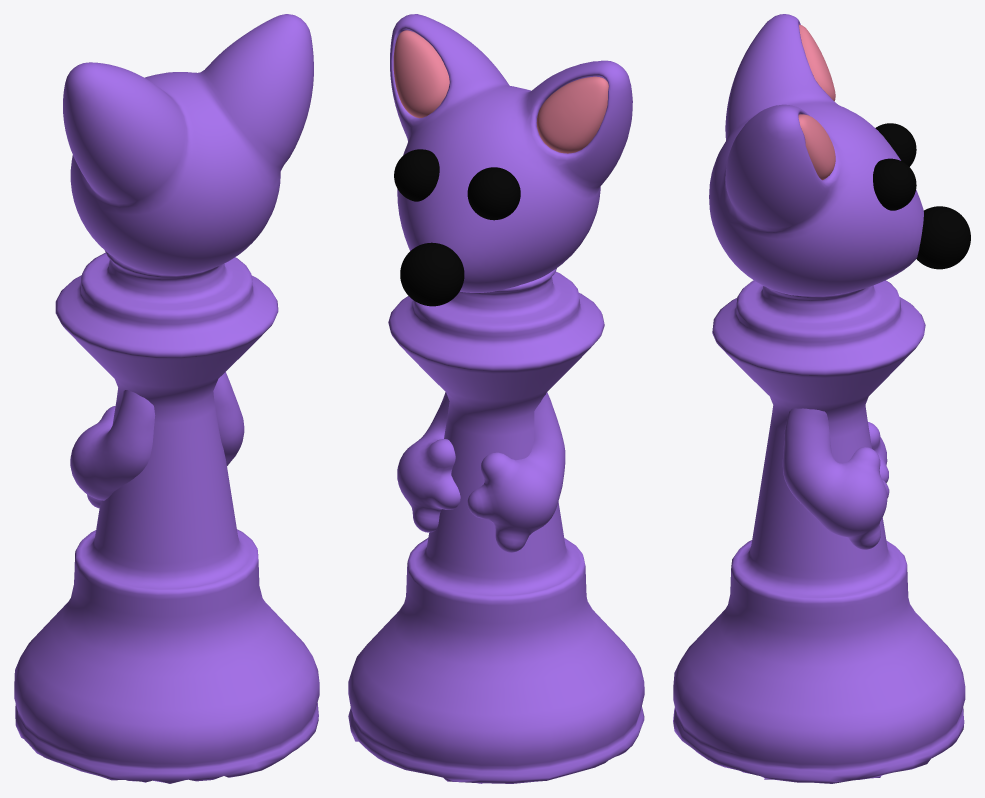
File: w-king.glb
3 views of the same model, side by side, from view 1: azimuth 30°, elevation 25°; view 2: azimuth 150°, elevation 25°; view 3: azimuth 270°, elevation 25° (orthographic). The views are drawn at different scales.
Visible parts, largest first — view 1: Retopo_geom.023, PhettaKing, Retopo_geom.024; view 2: Retopo_geom.023, PhettaKing, Retopo_geom.024, Retopo_geom.022, Retopo_geom.021, Retopo_geom.020; view 3: Retopo_geom.023, PhettaKing, Retopo_geom.024, Retopo_geom.021, Retopo_geom.020, Retopo_geom.022.
Boxes of the visible parts, bbox=[...] form: Retopo_geom.023: bbox=[14, 250, 319, 783]; PhettaKing: bbox=[63, 14, 313, 274]; Retopo_geom.024: bbox=[70, 372, 244, 508]; Retopo_geom.023: bbox=[348, 268, 644, 783]; PhettaKing: bbox=[390, 14, 632, 292]; Retopo_geom.024: bbox=[397, 392, 565, 552]; Retopo_geom.022: bbox=[393, 30, 608, 153]; Retopo_geom.021: bbox=[394, 149, 520, 220]; Retopo_geom.020: bbox=[400, 242, 464, 306]; Retopo_geom.023: bbox=[673, 280, 965, 783]; PhettaKing: bbox=[709, 14, 923, 296]; Retopo_geom.024: bbox=[782, 408, 889, 549]; Retopo_geom.021: bbox=[873, 123, 916, 210]; Retopo_geom.020: bbox=[916, 206, 970, 269]; Retopo_geom.022: bbox=[798, 24, 835, 180].
Size of the model in its own units: 0.5568 by 1.39 by 0.5672.
